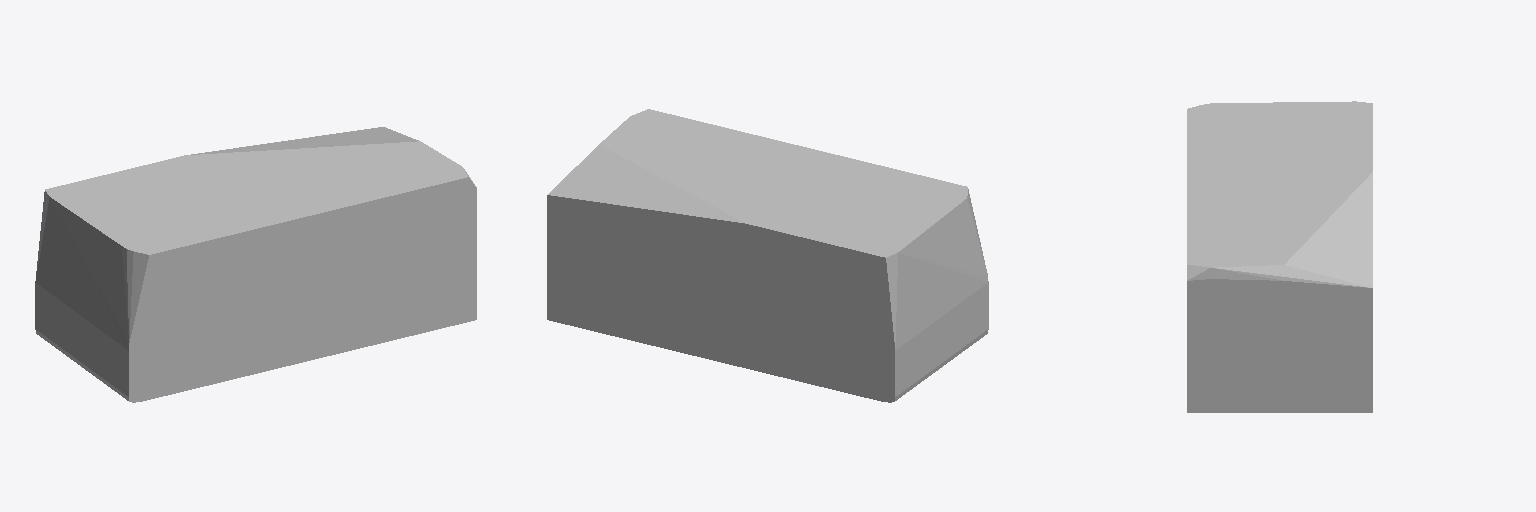
File: Toaster_24_collision_28.obj
The picture shows the model from 3 angles: view 1: azimuth 30°, elevation 25°; view 2: azimuth 150°, elevation 25°; view 3: azimuth 270°, elevation 25°; orthographic projection.
Bounding box in the file's own units: 0.169 × 0.0672 × 0.0784.